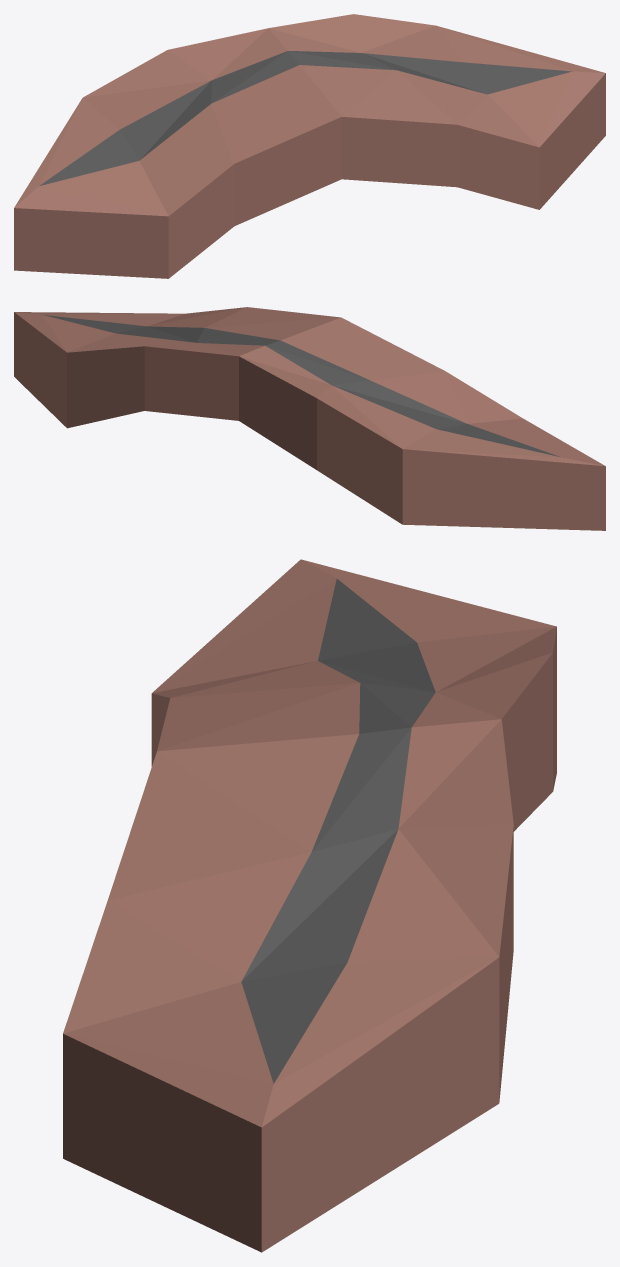
File: Mouth 06.FBX
3 views of the same model, one above another, from view 1: azimuth 30°, elevation 25°; view 2: azimuth 150°, elevation 25°; view 3: azimuth 270°, elevation 25° (orthographic). The views are drawn at different scales.
Parts seen in each view (by area): view 1: Mouth 06; view 2: Mouth 06; view 3: Mouth 06.
Part boxes in pixels (bbox=[...]): Mouth 06: bbox=[14, 14, 605, 278]; Mouth 06: bbox=[14, 307, 605, 530]; Mouth 06: bbox=[63, 559, 556, 1252].
Bounding box in the file's own units: 8.01 × 2.94 × 1.85.
